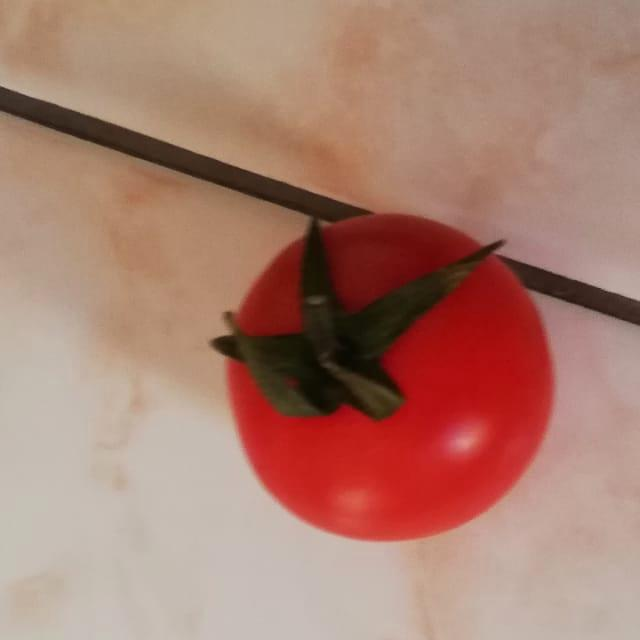tomato: (194, 172, 571, 554)
